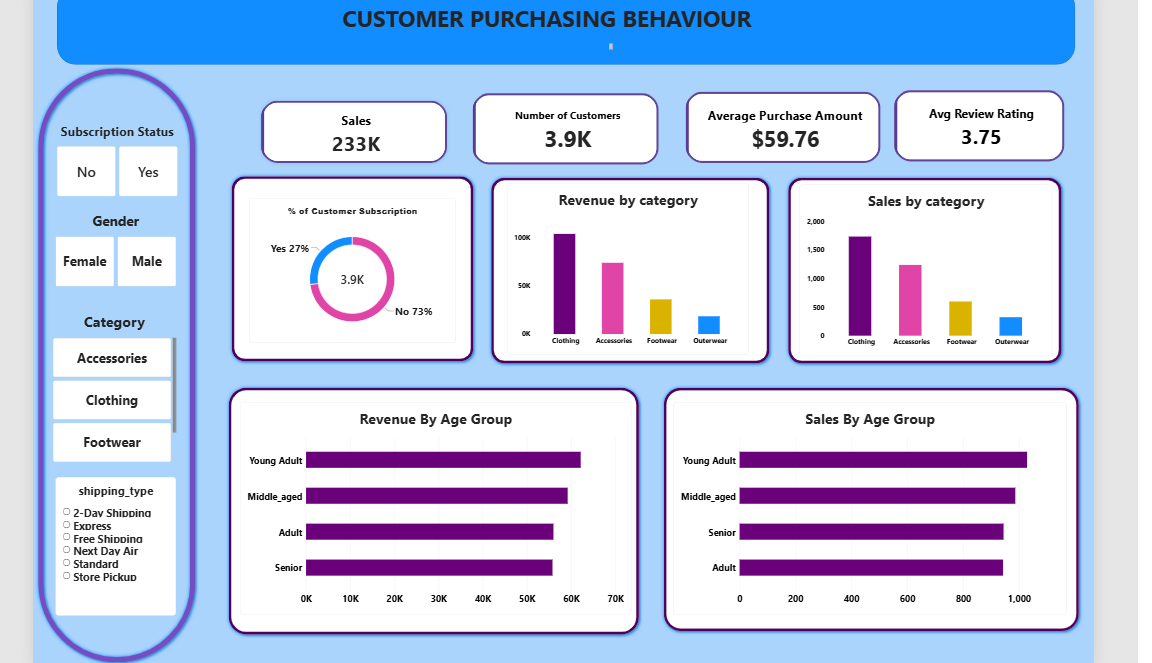

The page's visual inventory and layout, read from the dashboard file:
{"tool":"powerbi","page":{"name":"Page 1","canvas":[2500,1600],"ordinal":0},"visuals":[{"type":"cardVisual","fields":{"Data":["customer_behaviour customer_purchase.Number of Customers"]},"box":[1037.2,247.3,439.2,169.8],"z":0},{"type":"cardVisual","fields":{"Data":["customer_behaviour customer_purchase.Average_Amount"]},"box":[1539.1,243.6,460.6,169],"z":1000},{"type":"cardVisual","fields":{"Data":["customer_behaviour customer_purchase.Avg Review Rating"]},"box":[2030,239.9,402.3,169.8],"z":2000},{"type":"textbox","box":[0,406,281,170],"z":3000},{"type":"shape","box":[55.4,0,2399.1,180.9],"z":4000},{"type":"textbox","box":[53.9,34,1785.8,110.6],"z":5000},{"type":"textbox","box":[442.2,130.4,924.1,14.2],"z":6000},{"type":"shape","box":[459,435.7,586.9,454],"z":7000},{"type":"donutChart","title":"% of Customer Subscription","fields":{"Category":["customer_behaviour customer_purchase.subscription_status"],"Y":["CountNonNull(customer_behaviour customer_purchase.customer_id)"]},"box":[509.6,494,487.1,341.3],"z":8000},{"type":"shape","box":[1069.8,439.6,673,455.1],"z":9000},{"type":"shape","box":[1770,439.6,661.3,455.1],"z":10000},{"type":"clusteredColumnChart","title":"Revenue by category","fields":{"Category":["customer_behaviour customer_purchase.category"],"Y":["Sum(customer_behaviour customer_purchase.purchase_amount)"]},"box":[1116.5,459,570,404.3],"z":11000},{"type":"clusteredColumnChart","title":"Sales by category","fields":{"Category":["customer_behaviour customer_purchase.category"],"Y":["CountNonNull(customer_behaviour customer_purchase.customer_id)"]},"box":[1805,462.9,595.2,404.6],"z":12000},{"type":"shape","box":[3.7,180.9,387.6,1417.3],"z":13000},{"type":"advancedSlicerVisual","title":"Subscription Status","fields":{"Values":["customer_behaviour customer_purchase.subscription_status"]},"box":[55.4,317.4,284.2,173.5],"z":14000},{"type":"advancedSlicerVisual","title":"Gender","fields":{"Values":["customer_behaviour customer_purchase.gender"]},"box":[51.7,527.8,284.2,177.2],"z":15000},{"type":"advancedSlicerVisual","title":"Category","fields":{"Values":["customer_behaviour customer_purchase.category"]},"box":[44.3,764,291.6,354.3],"z":16000},{"type":"listSlicer","fields":{"Values":["customer_behaviour customer_purchase.shipping_type"]},"box":[54.5,1151.5,284,326.8],"z":17000},{"type":"shape","box":[1478.2,933.6,995.9,591.3],"z":18000},{"type":"shape","box":[451.3,933.6,984.2,599.1],"z":19000},{"type":"clusteredBarChart","title":"Sales By Age Group","fields":{"Category":["customer_behaviour customer_purchase.age_group"],"Y":["CountNonNull(customer_behaviour customer_purchase.customer_id)"]},"box":[1509.4,976.4,925.8,501.8],"z":20000},{"type":"clusteredBarChart","title":"Revenue By Age Group","fields":{"Category":["customer_behaviour customer_purchase.age_group"],"Y":["Sum(customer_behaviour customer_purchase.purchase_amount)"]},"box":[486.3,976.4,922,501.8],"z":21000},{"type":"cardVisual","fields":{"Data":["customer_behaviour customer_purchase.Sales"]},"box":[525.2,252.9,460.6,169],"z":22000}]}

Visuals, with their boxes in screenshot pixels (x1, y1, x2, y2):
cardVisual - customer_behaviour customer_purchase.Number of Customers: region(466, 90, 653, 162)
cardVisual - customer_behaviour customer_purchase.Average_Amount: region(679, 88, 874, 160)
cardVisual - customer_behaviour customer_purchase.Avg Review Rating: region(887, 87, 1057, 159)
textbox: region(27, 157, 146, 229)
shape: region(50, 0, 1067, 62)
textbox: region(50, 0, 806, 46)
textbox: region(214, 40, 606, 46)
shape: region(221, 170, 470, 362)
"% of Customer Subscription" donutChart: region(243, 194, 449, 339)
shape: region(480, 171, 765, 364)
shape: region(777, 171, 1057, 364)
"Revenue by category" clusteredColumnChart: region(500, 179, 742, 351)
"Sales by category" clusteredColumnChart: region(792, 181, 1044, 353)
shape: region(29, 62, 193, 662)
"Subscription Status" advancedSlicerVisual: region(50, 119, 171, 193)
"Gender" advancedSlicerVisual: region(49, 209, 169, 284)
"Category" advancedSlicerVisual: region(46, 309, 169, 459)
listSlicer - customer_behaviour customer_purchase.shipping_type: region(50, 473, 170, 611)
shape: region(653, 381, 1075, 631)
shape: region(218, 381, 635, 634)
"Sales By Age Group" clusteredBarChart: region(666, 399, 1059, 611)
"Revenue By Age Group" clusteredBarChart: region(233, 399, 624, 611)
cardVisual - customer_behaviour customer_purchase.Sales: region(250, 92, 445, 164)
